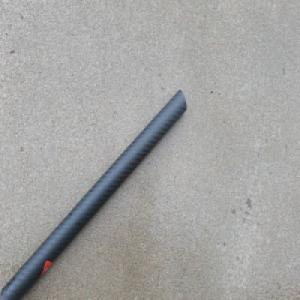LuggagePart: (0, 88, 187, 300)
